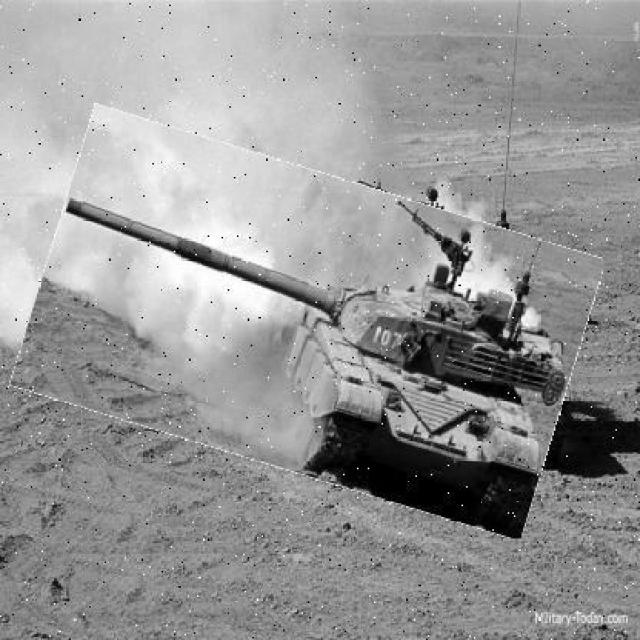Tank: (26, 141, 590, 506)
